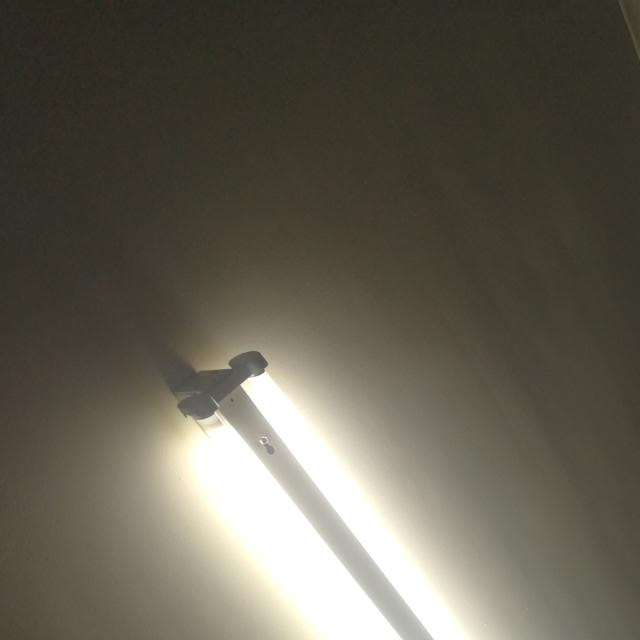fluorescent tube: (161, 327, 640, 640)
